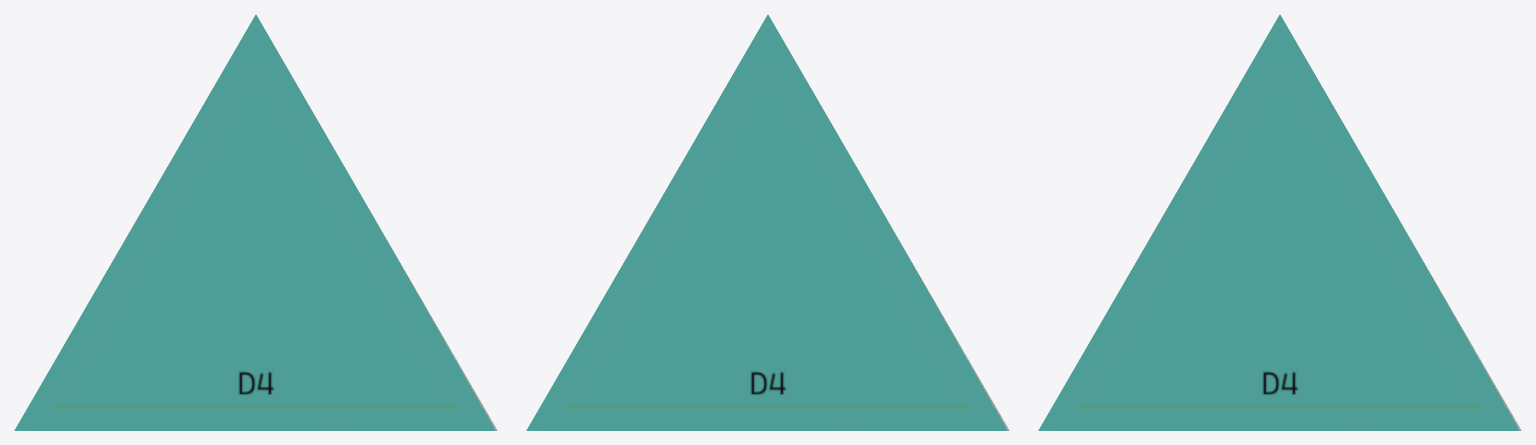
The model's file is D4Complex.obj.
The picture shows the model from 3 angles, left to right: view 1: azimuth 30°, elevation 25°; view 2: azimuth 150°, elevation 25°; view 3: azimuth 270°, elevation 25°; orthographic projection.
Visible parts, largest first — view 1: D4Complex; view 2: D4Complex; view 3: D4Complex.
Part boxes in pixels (x1,y1,x2,y2): D4Complex: [14, 14, 497, 430]; D4Complex: [526, 14, 1009, 430]; D4Complex: [1038, 14, 1521, 430].
Bounding box in the file's own units: 2.6 × 2.45 × 3.
1 material, 1 textured.
